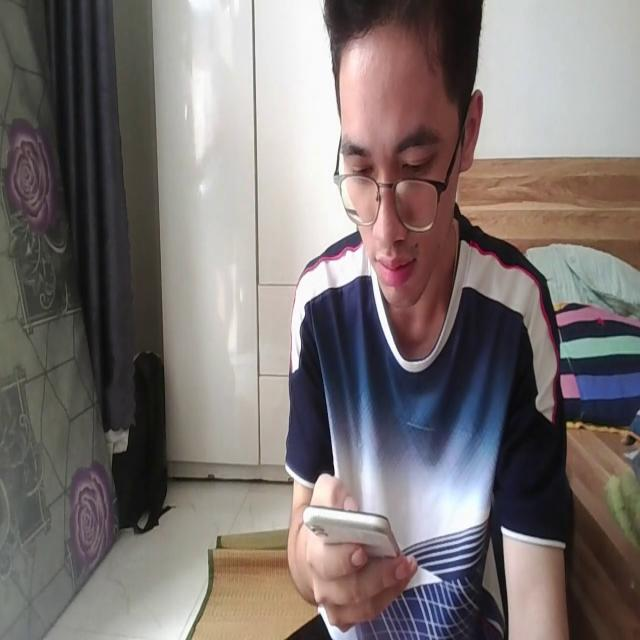phone: (301, 494, 406, 564)
student: (283, 2, 575, 640)
